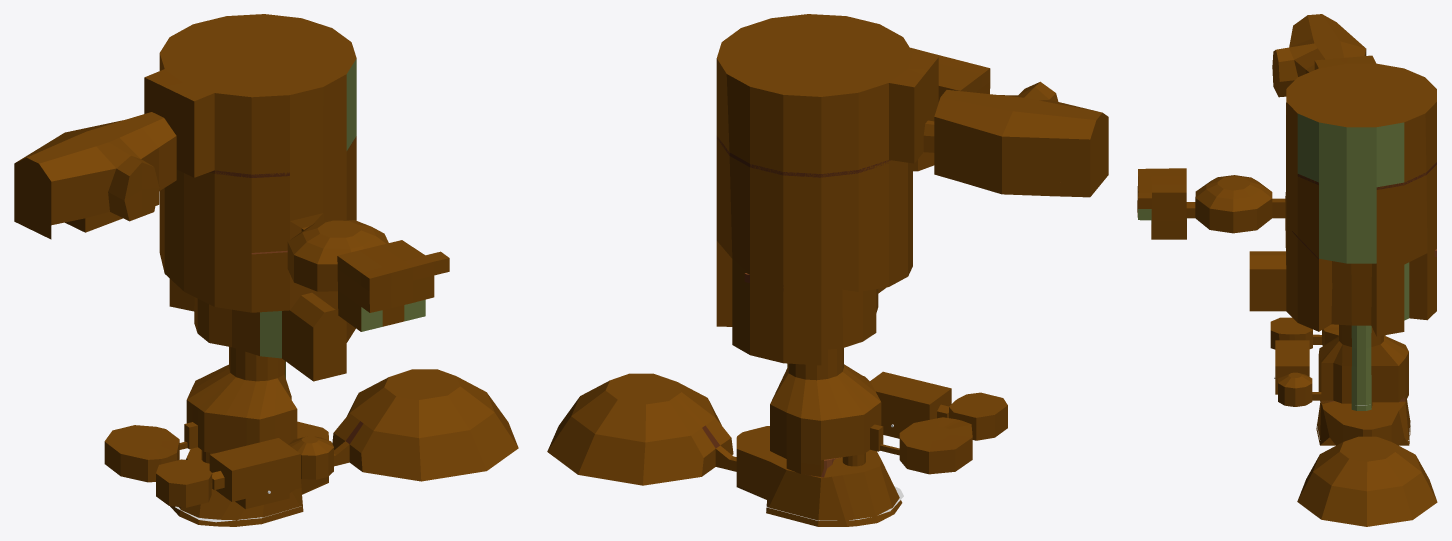
Rendered from Inside_the_deku_tree_sem_apply (1).fbx.
3 views of the same model, side by side, from view 1: azimuth 30°, elevation 25°; view 2: azimuth 150°, elevation 25°; view 3: azimuth 270°, elevation 25° (orthographic). The views are drawn at different scales.
Parts seen in each view (by area): view 1: PAREDE COMUM, Parede escalável; view 2: PAREDE COMUM, Chão; view 3: PAREDE COMUM, Parede escalável, Chão.
Boxes of the visible parts, x1=… form: PAREDE COMUM: x1=14, y1=14, x2=518, y2=526; Parede escalável: x1=260, y1=59, x2=425, y2=378; PAREDE COMUM: x1=547, y1=14, x2=1108, y2=526; Chão: x1=716, y1=136, x2=890, y2=477; PAREDE COMUM: x1=1137, y1=14, x2=1437, y2=526; Parede escalável: x1=1138, y1=113, x2=1409, y2=410; Chão: x1=1292, y1=162, x2=1436, y2=402.
Size of the model in its own units: 59557 by 48861 by 38736.
